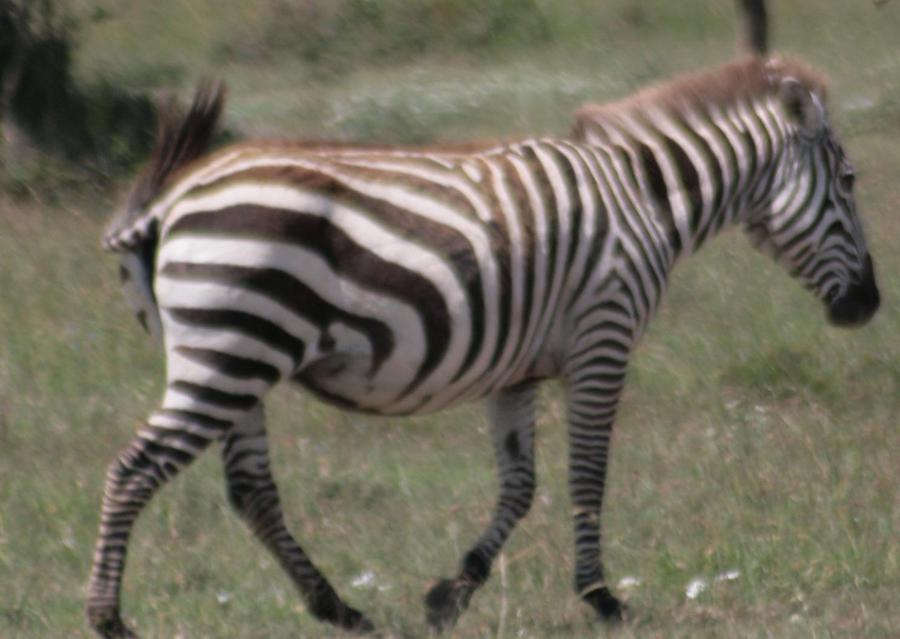zebra_plains: (137, 94, 683, 440)
